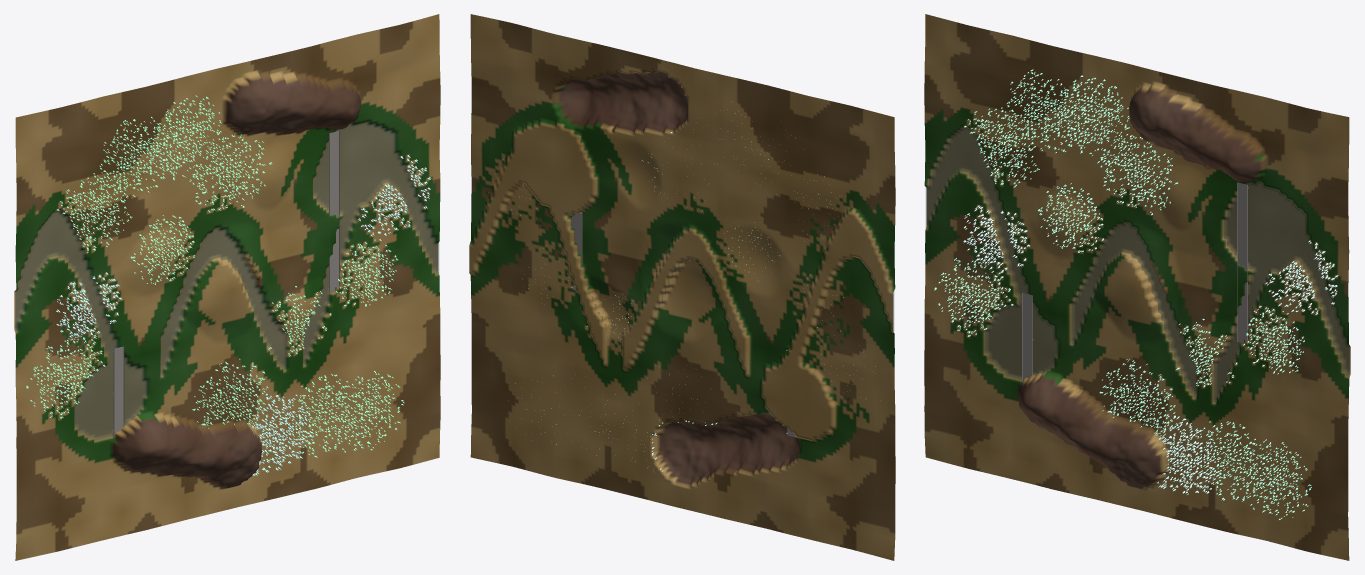
Rendered from terrain.glb.
3 views of the same model, side by side, from view 1: azimuth 30°, elevation 25°; view 2: azimuth 150°, elevation 25°; view 3: azimuth 330°, elevation 25° (orthographic).
Visible parts, largest first — view 1: Terrain, Water, TibGreen, TibBlue, Bridge96, Bridge31; view 2: Terrain; view 3: Terrain, Water, TibGreen, TibBlue, Bridge96, Bridge31.
Part boxes in pixels (bbox=[...]): Terrain: bbox=[14, 14, 440, 560]; Water: bbox=[16, 121, 438, 440]; TibGreen: bbox=[26, 95, 404, 457]; TibBlue: bbox=[56, 155, 431, 475]; Bridge96: bbox=[328, 131, 339, 292]; Bridge31: bbox=[112, 346, 124, 438]; Terrain: bbox=[469, 14, 895, 560]; Terrain: bbox=[924, 14, 1350, 560]; Water: bbox=[926, 127, 1348, 402]; TibGreen: bbox=[934, 69, 1311, 519]; TibBlue: bbox=[963, 205, 1338, 494]; Bridge96: bbox=[1237, 182, 1248, 344]; Bridge31: bbox=[1022, 293, 1033, 381].
Bounding box in the file's own units: 128 × 128 × 9.78.
